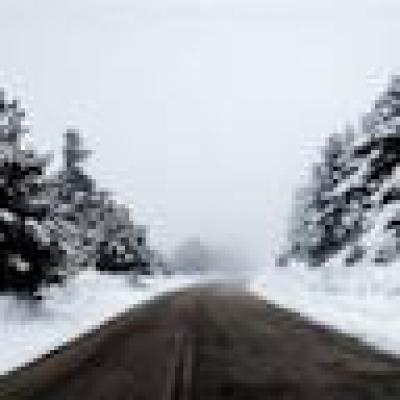iced-road: (0, 288, 398, 400)
